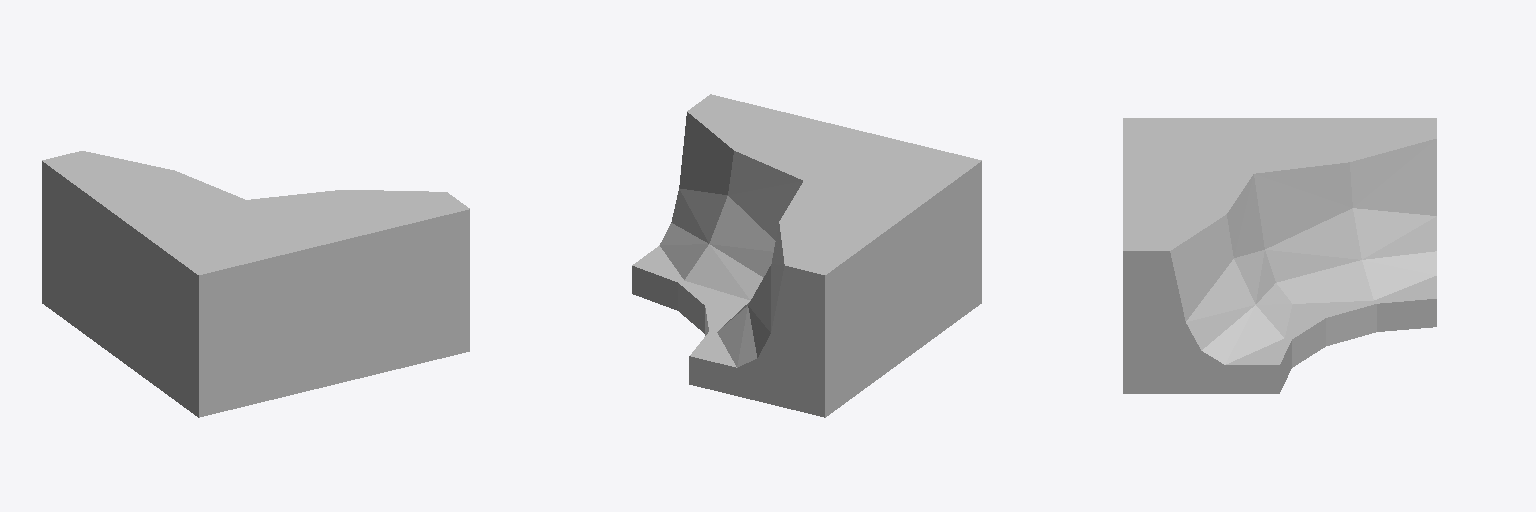
File: Cliff_Base_Corner_Inner_Lg.obj
The picture shows the model from 3 angles: view 1: azimuth 30°, elevation 25°; view 2: azimuth 150°, elevation 25°; view 3: azimuth 270°, elevation 25°; orthographic projection.
Parts seen in each view (by area): view 1: object1; view 2: object1; view 3: object1.
Boxes of the visible parts, x1=… form: object1: x1=42, y1=151, x2=469, y2=417; object1: x1=632, y1=94, x2=981, y2=417; object1: x1=1123, y1=118, x2=1436, y2=393.
Bounding box in the file's own units: 2 × 1 × 2.